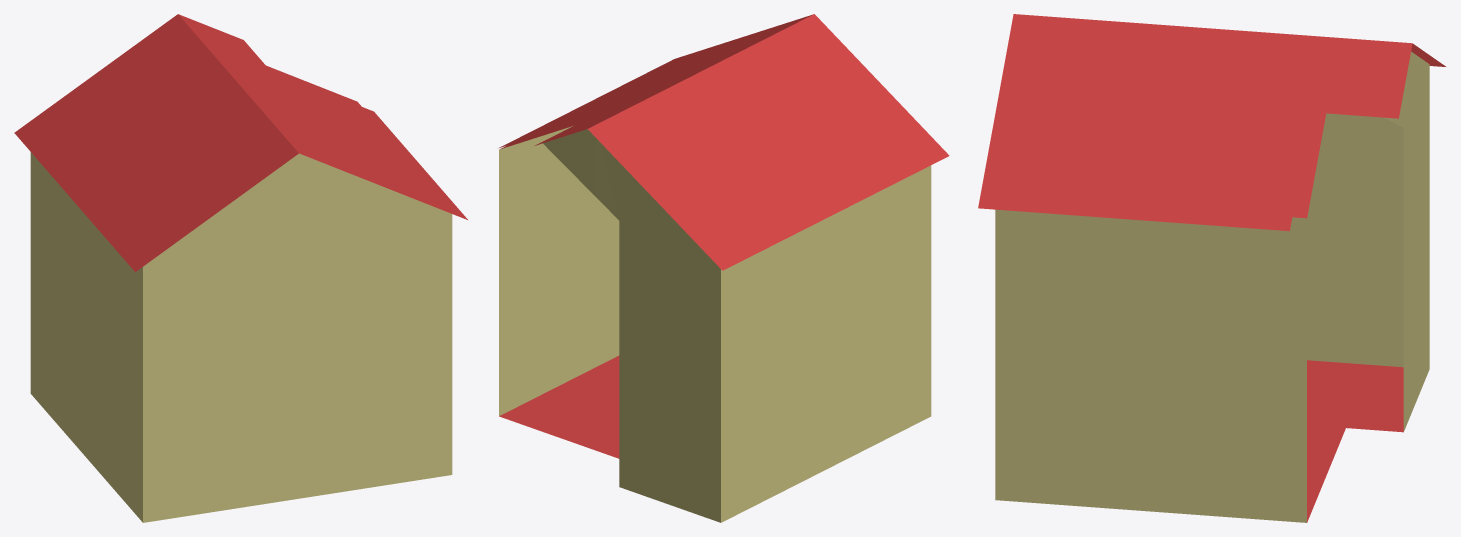
The picture shows the model from 3 angles, left to right: view 1: azimuth 30°, elevation 25°; view 2: azimuth 150°, elevation 25°; view 3: azimuth 270°, elevation 25°; orthographic projection. The views are drawn at different scales.
Size of the model in its own units: 7.66 by 7.85 by 7.48.
